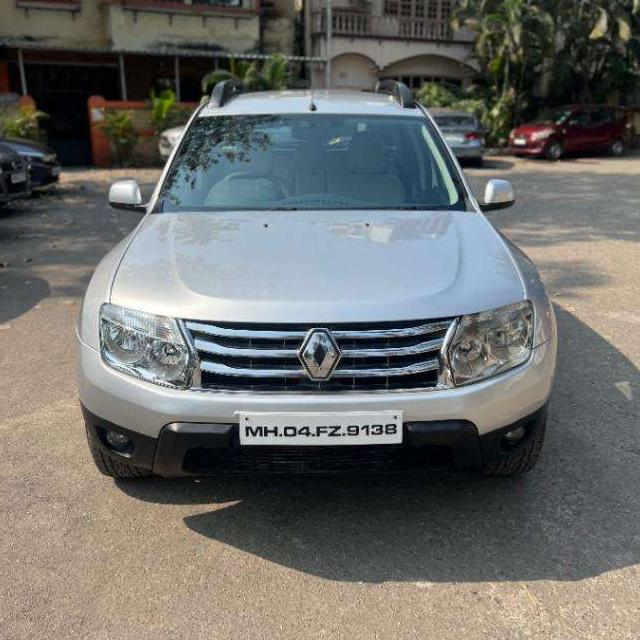Indian_Number_Plate: (240, 412, 401, 443)
